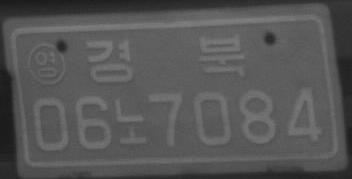0: (192, 91, 231, 147), (32, 95, 69, 152)
4: (286, 87, 323, 142)
6: (74, 94, 112, 149)
7: (148, 92, 183, 147)
8: (238, 87, 276, 146)
경북_D: (86, 33, 245, 83)
노: (113, 97, 147, 146)
영: (26, 41, 66, 86)
